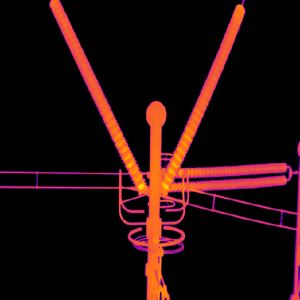insulator: (50, 0, 146, 195), (158, 4, 245, 191), (168, 161, 287, 190)
